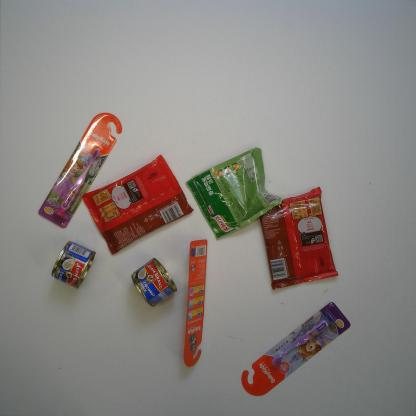Canned Food: (131, 257, 178, 308), (51, 240, 96, 290)
Dessert: (82, 154, 195, 256), (259, 186, 339, 292)
Personal Hygiene: (240, 301, 352, 397), (36, 112, 123, 230), (183, 239, 209, 367)
Seasoner: (185, 146, 284, 241)
